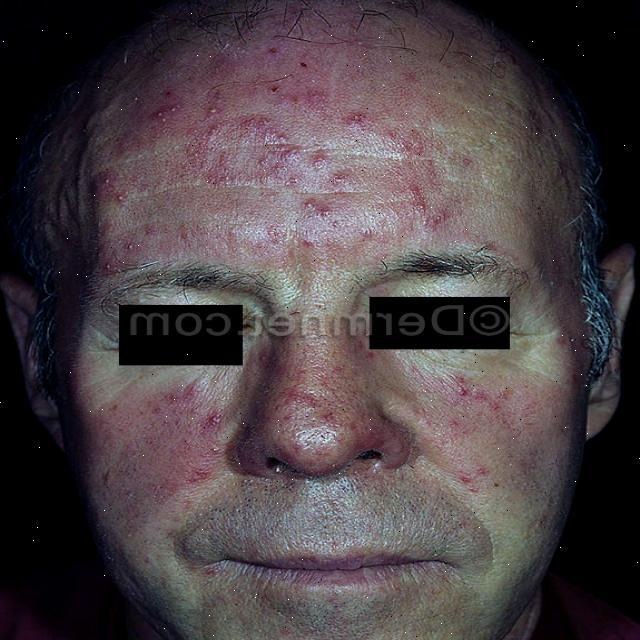images: (2, 1, 636, 638)
